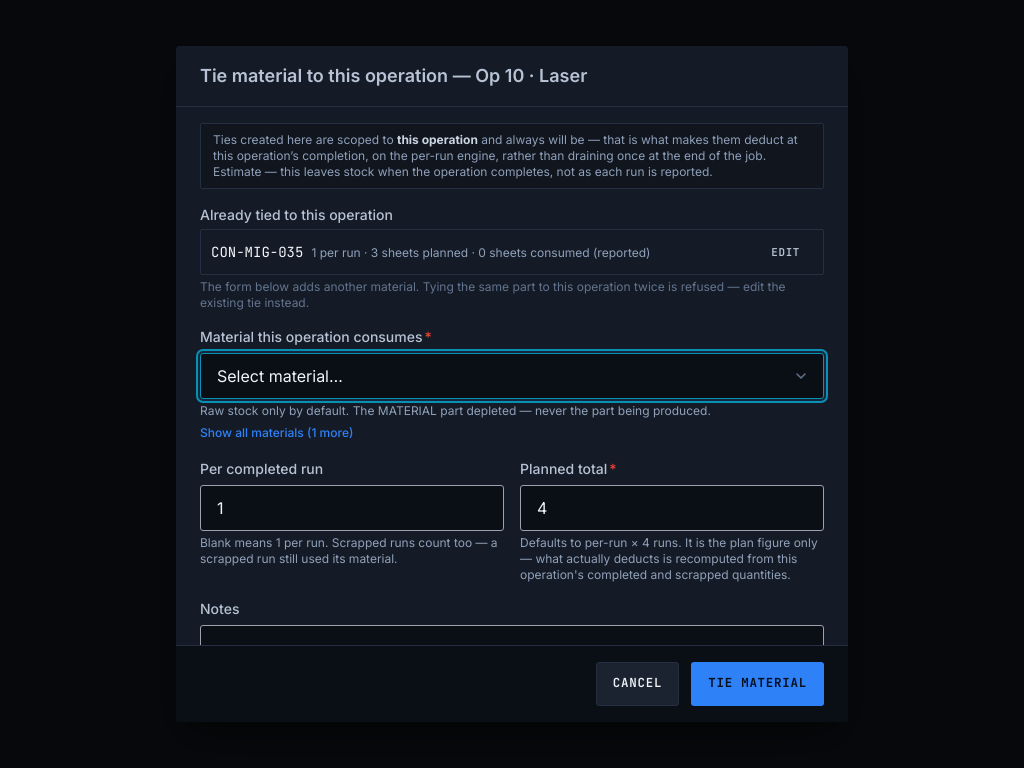
Test: OperationMaterialTieModal: raw stock by default, everything else one click away › leaves the EDIT branch alone — the part is fixed, so there is nothing to filter
Click the button "Edit": (786, 252) [758,236,813,268]
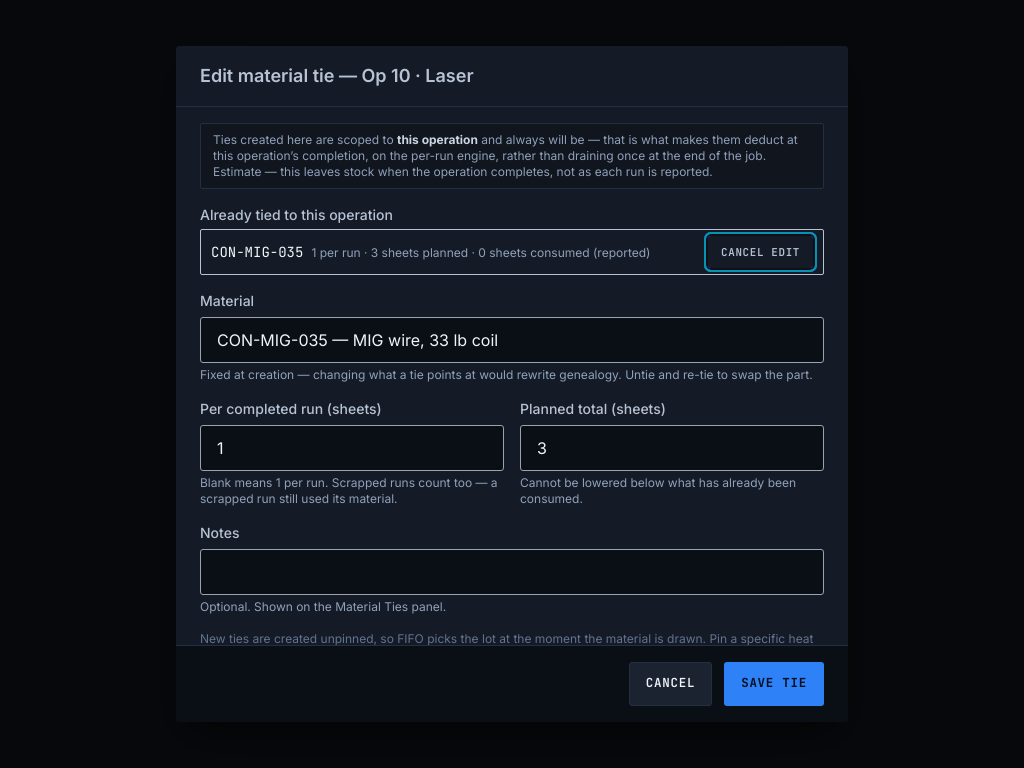
Expected: the label labelled "Material this operation consumes" is gone
Expected: the button "Show all materials" is gone
Expected: the field labelled "Material" holds "CON-MIG-035 — MIG wire, 33 lb coil", [200,317,824,363]
